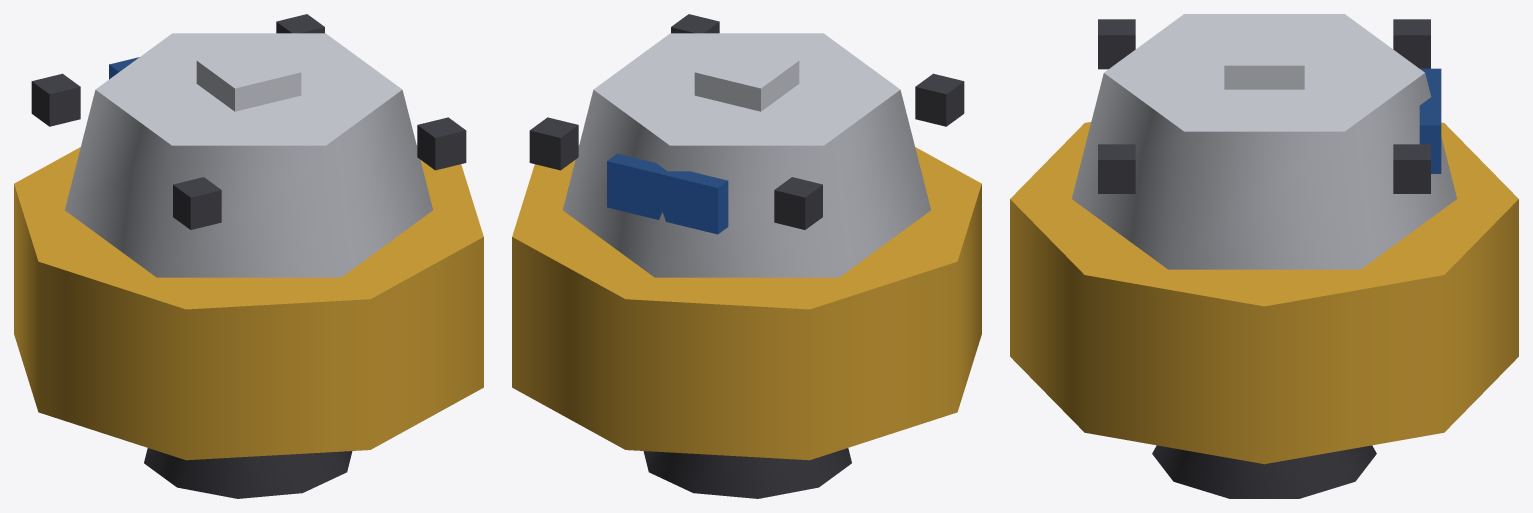
Rendered from lander_hull.glb.
3 renders of one model, left to right at view 1: azimuth 30°, elevation 25°; view 2: azimuth 150°, elevation 25°; view 3: azimuth 270°, elevation 25°, orthographic. The views are drawn at different scales.
Parts seen in each view (by area): view 1: lander_hull; view 2: lander_hull; view 3: lander_hull.
Part boxes in pixels (<box>): lander_hull: <box>14,14,483,498</box>; lander_hull: <box>512,14,981,498</box>; lander_hull: <box>1010,14,1518,498</box>.
Size of the model in its own units: 1.9 by 1.67 by 1.9.
